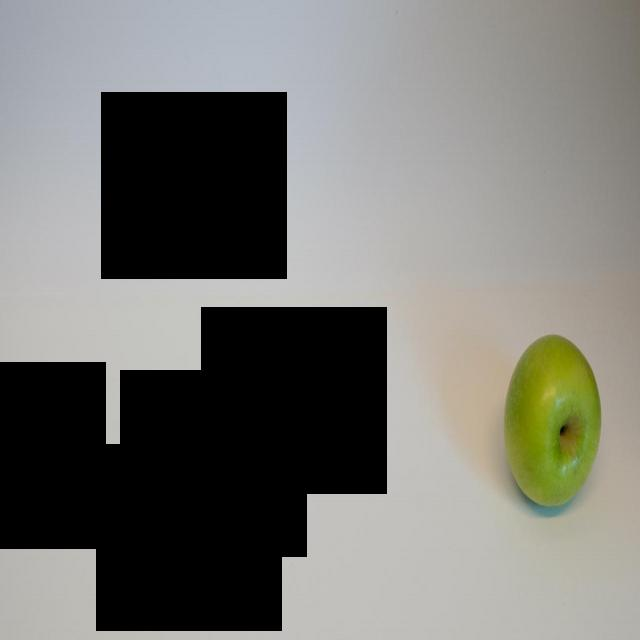apple: (506, 327, 602, 506)
